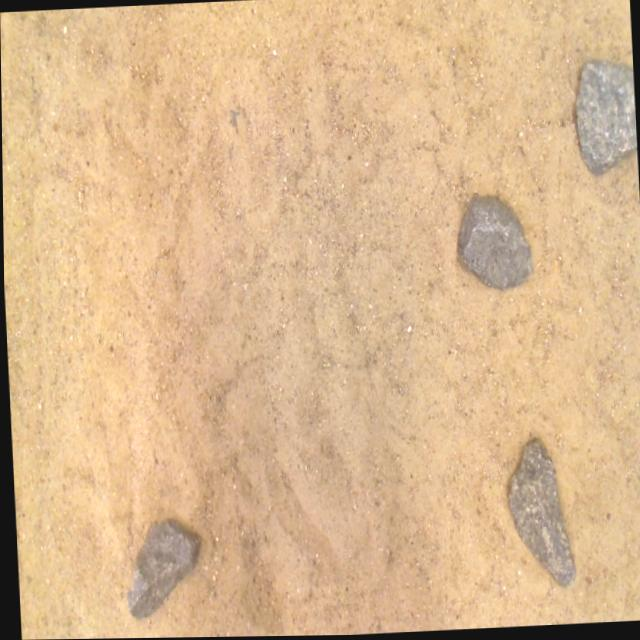rock: (505, 438, 572, 586), (124, 519, 197, 616), (574, 60, 636, 174), (456, 195, 529, 289)
